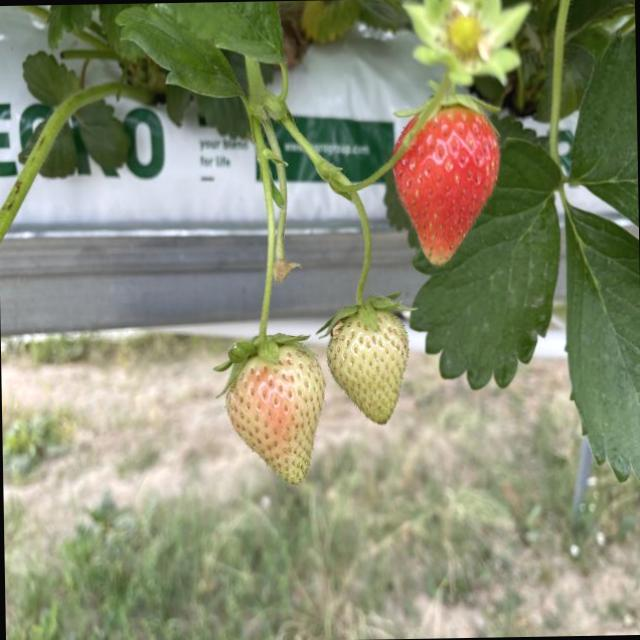stem: (216, 121, 301, 385), (324, 141, 407, 328), (396, 62, 497, 144)
strawberryNR: (324, 312, 404, 423)
strawberryR: (393, 105, 498, 263), (224, 346, 321, 482)
